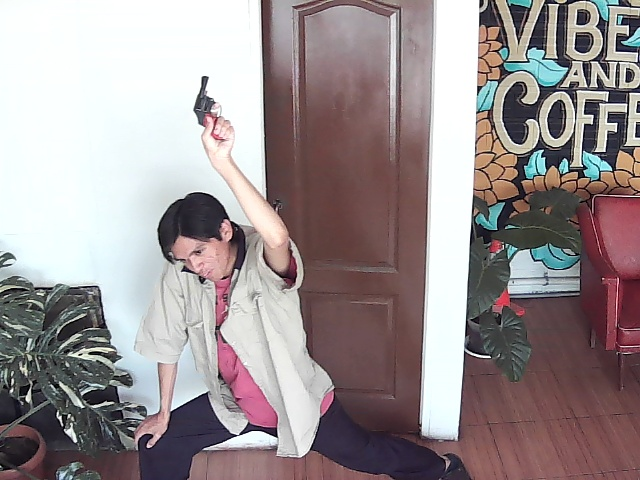pistola: (186, 74, 236, 146)
